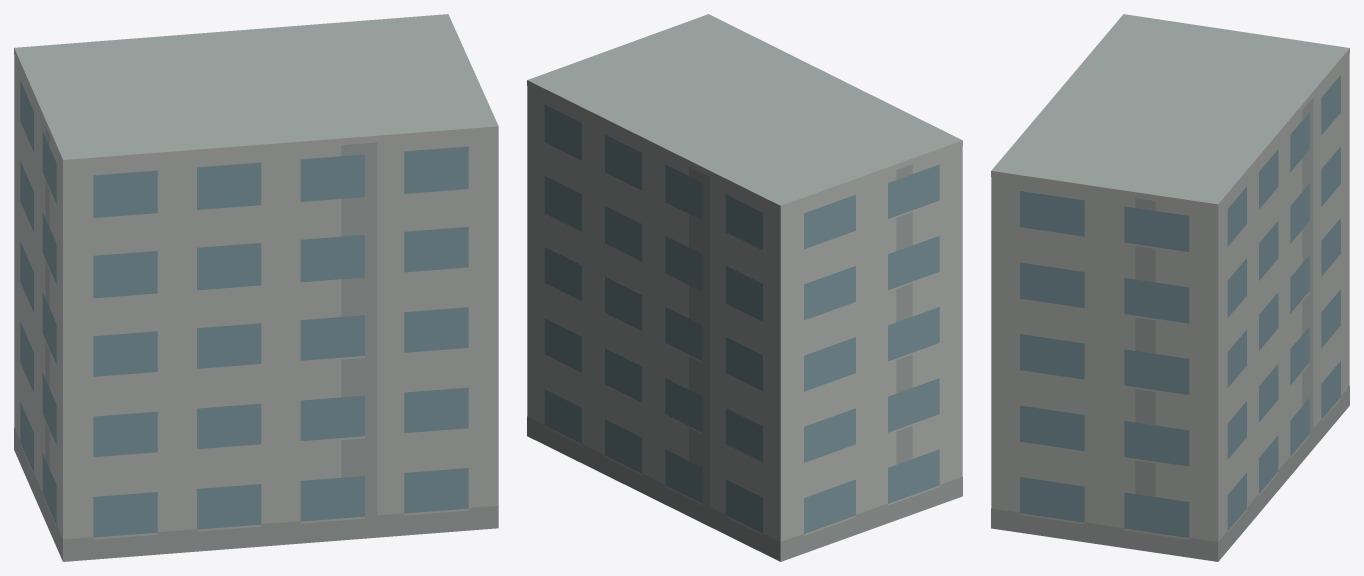
The model's file is survey-upis-32894450.glb.
The picture shows the model from 3 angles, left to right: view 1: azimuth 30°, elevation 25°; view 2: azimuth 150°, elevation 25°; view 3: azimuth 270°, elevation 25°; orthographic projection. The views are drawn at different scales.
Visible parts, largest first — view 1: survey-upis-32894450.tmp; view 2: survey-upis-32894450.tmp; view 3: survey-upis-32894450.tmp.
Boxes of the visible parts, x1=… form: survey-upis-32894450.tmp: x1=14, y1=14, x2=498, y2=561; survey-upis-32894450.tmp: x1=527, y1=14, x2=962, y2=561; survey-upis-32894450.tmp: x1=991, y1=14, x2=1349, y2=561.
Bounding box in the file's own units: 16.68 × 14.6 × 13.28.
